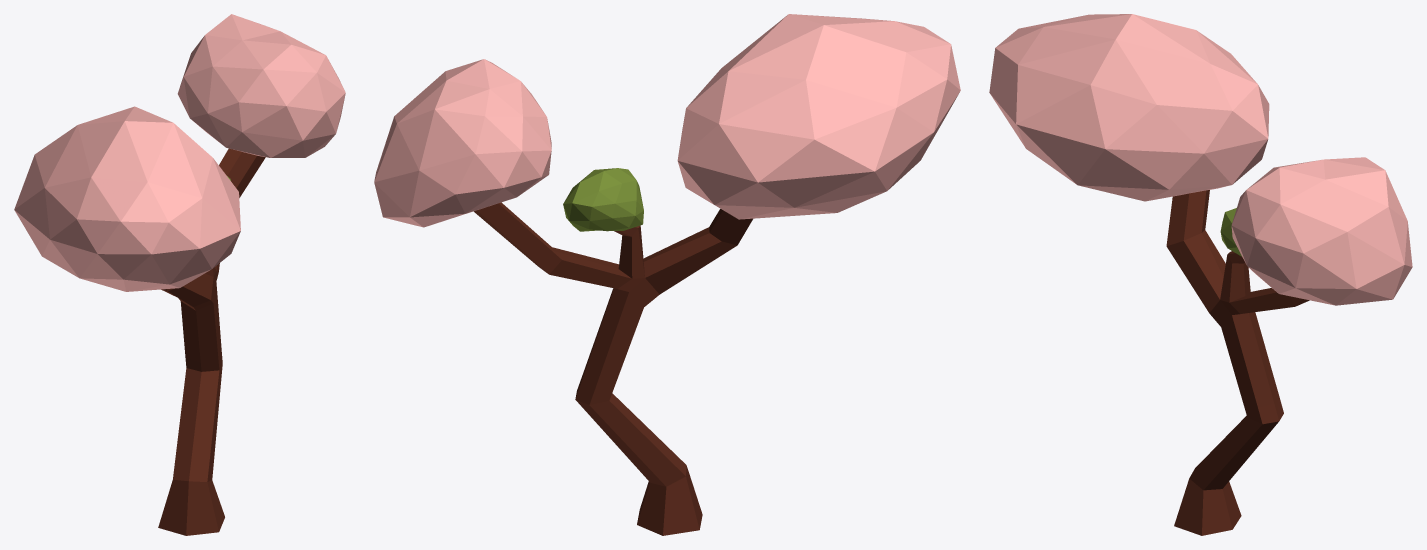
Rendered from tree1.fbx.
3 renders of one model, left to right at view 1: azimuth 30°, elevation 25°; view 2: azimuth 150°, elevation 25°; view 3: azimuth 270°, elevation 25°, orthographic. The views are drawn at different scales.
Parts seen in each view (by area): view 1: Low poly cherry tree #2; view 2: Low poly cherry tree #2; view 3: Low poly cherry tree #2.
Part boxes in pixels (left/top/right/bottom): Low poly cherry tree #2: left=14, top=14, right=345, bottom=535; Low poly cherry tree #2: left=374, top=14, right=960, bottom=535; Low poly cherry tree #2: left=989, top=14, right=1412, bottom=535.
Size of the model in its own units: 417 by 464 by 391.
